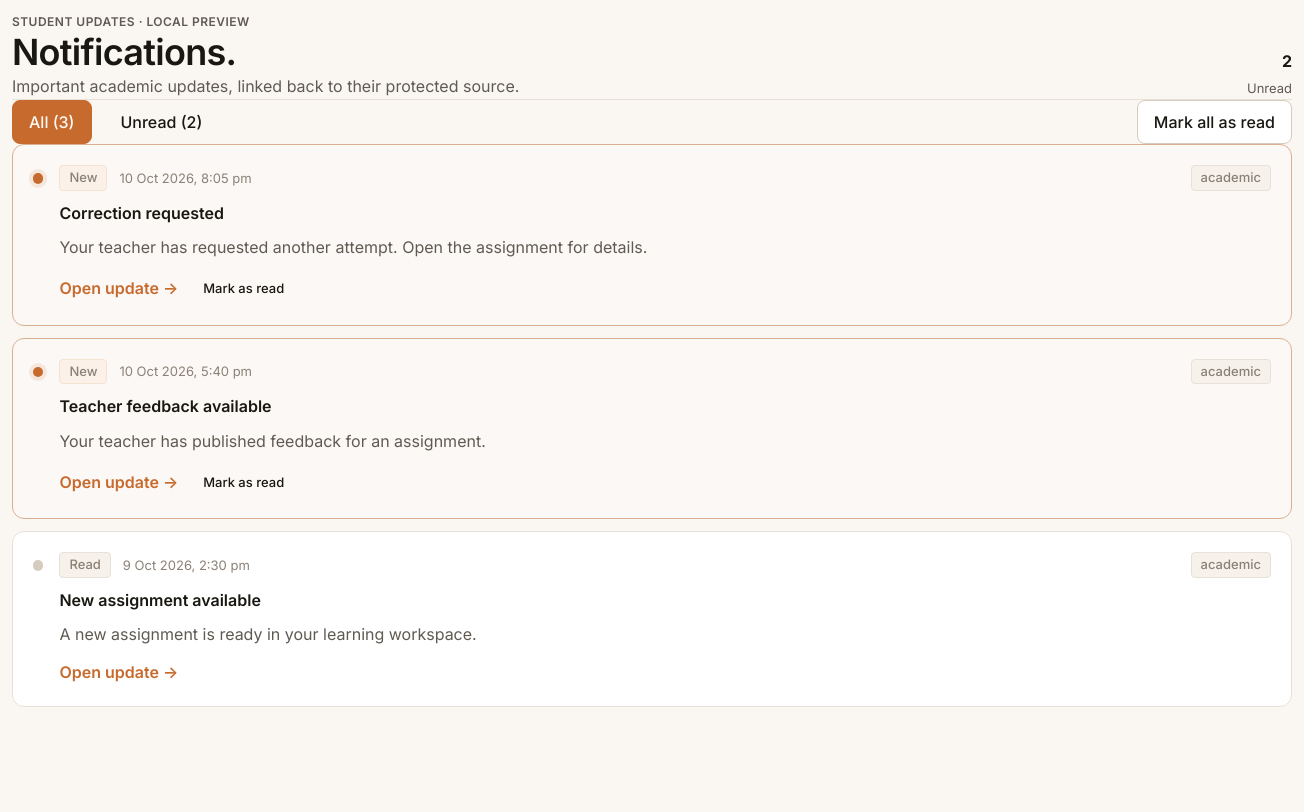
Test: NotificationCentrePage › shows, filters, and marks fictional student notifications read
Expected: the heading "Notifications." is shown, top-left (12, 30), bottom-right (236, 74)
Expected: the element named "2 unread notifications" is shown, top-left (1247, 51), bottom-right (1292, 96)
Step 1. Click the button "Mark as read" below "Correction requested" → (244,289), box top-left (190, 273), bottom-right (297, 305)
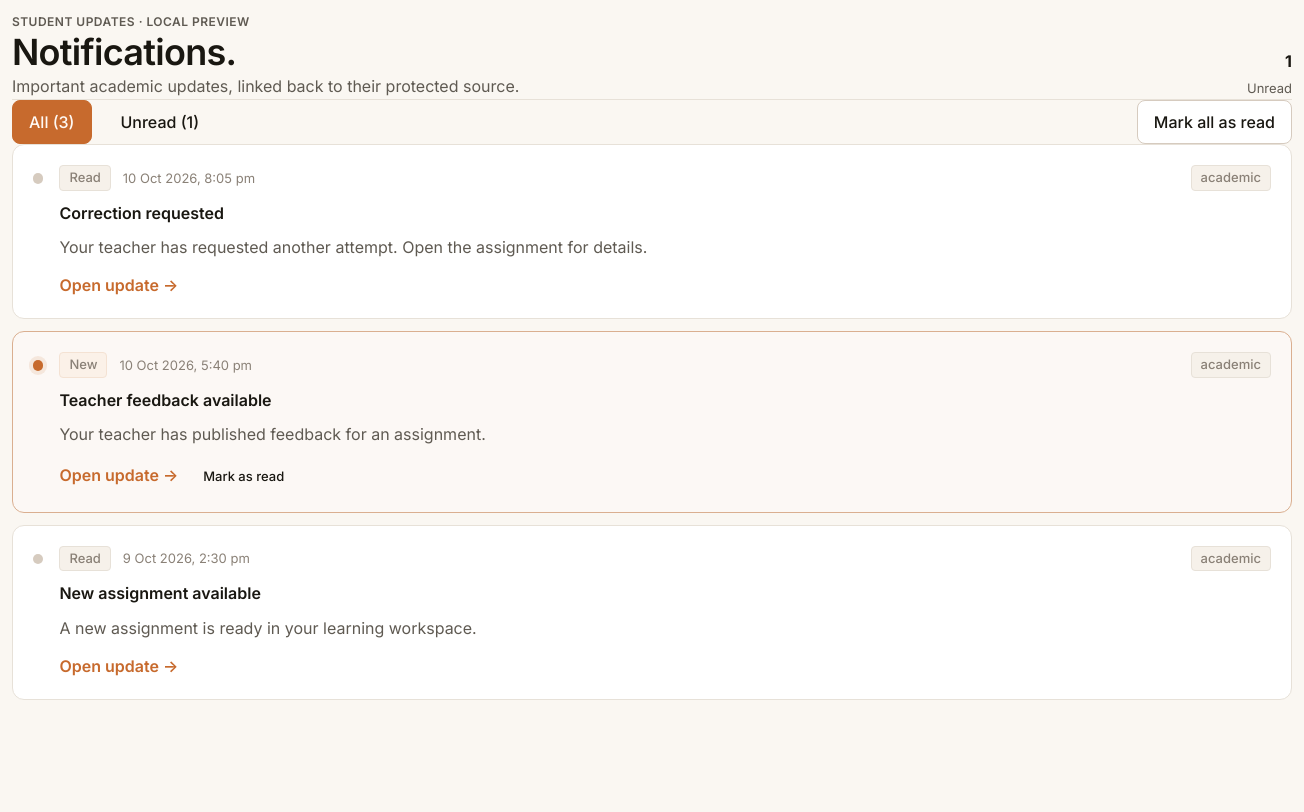
Now the element named "1 unread notifications" is shown, box top-left (1247, 51), bottom-right (1292, 96)
Step 2. Click the button "Unread (1)" → (160,122), box top-left (104, 100), bottom-right (216, 144)
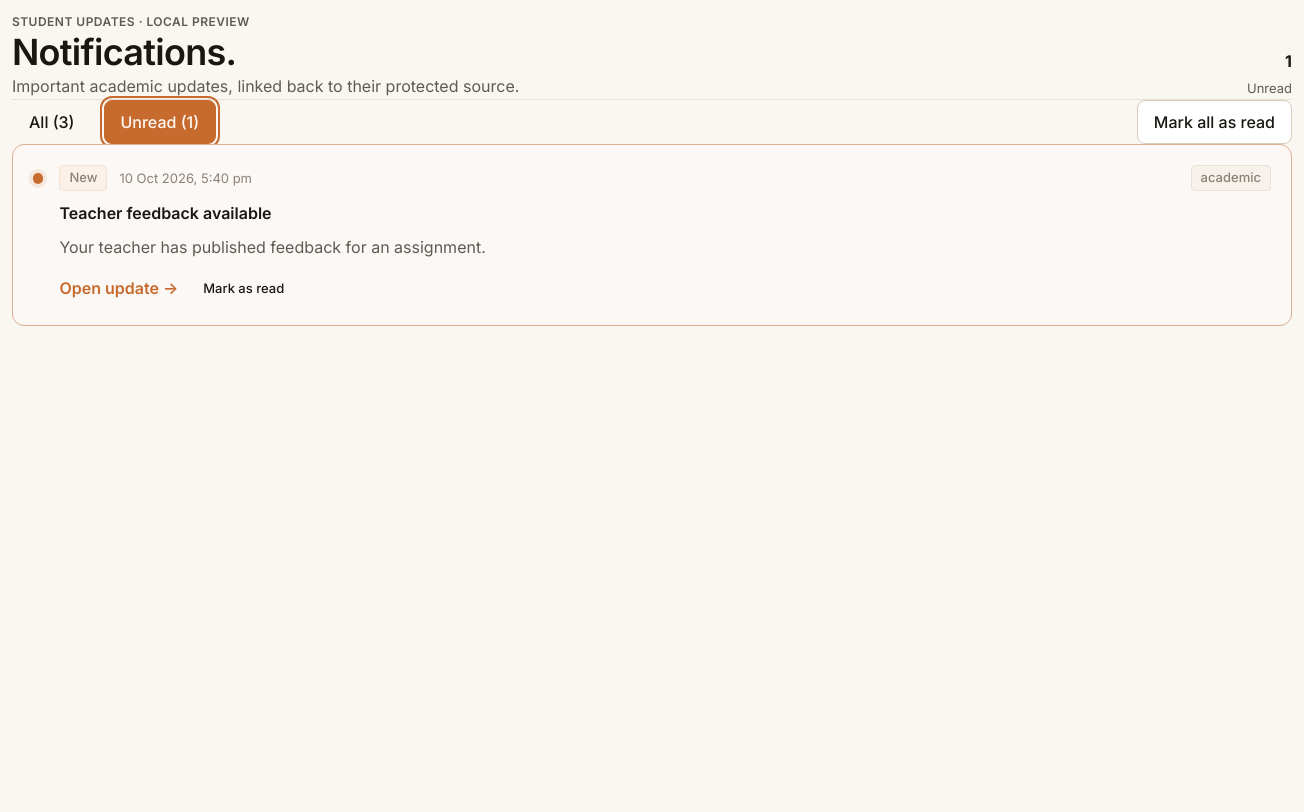
Now the heading "Correction requested" is gone
Step 3. Click the button "Mark all as read" → (1214,122), box top-left (1137, 100), bottom-right (1292, 144)
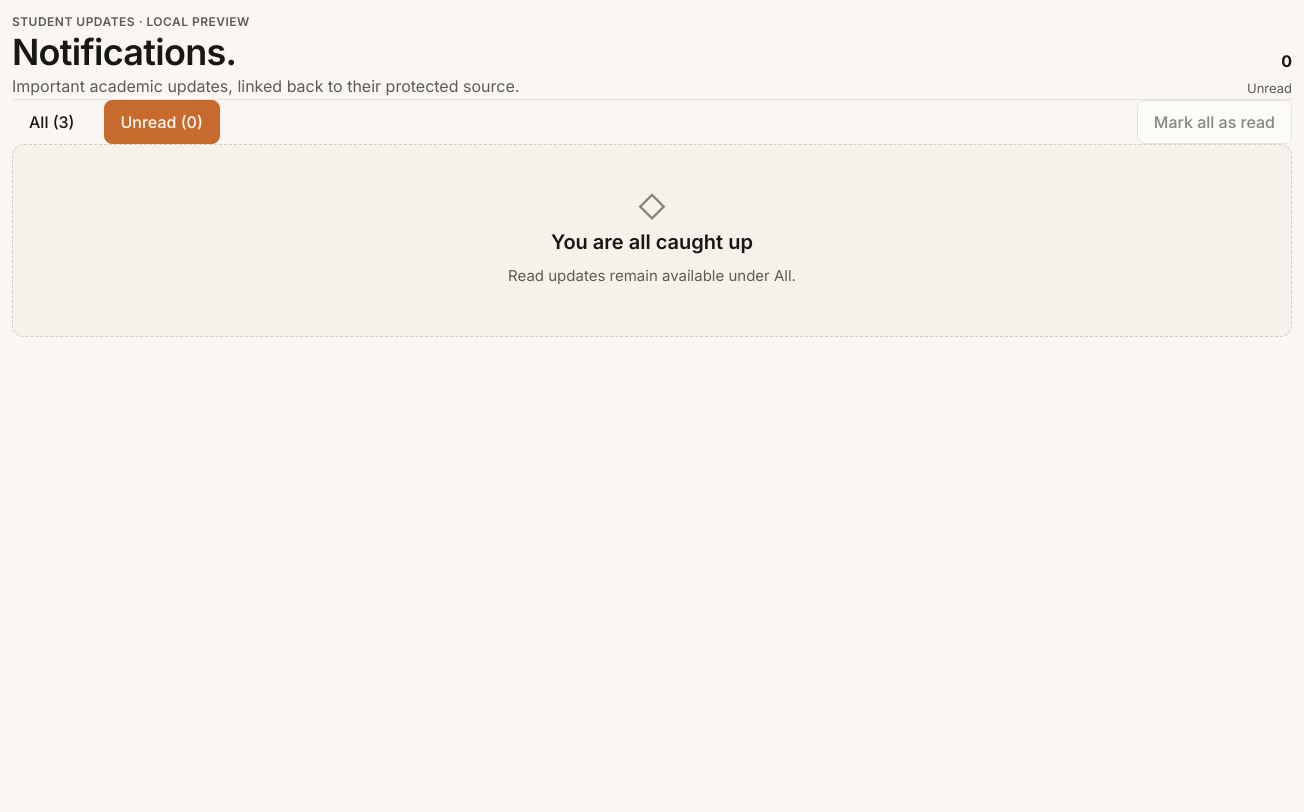
Now the text "You are all caught up" is shown, box top-left (551, 229), bottom-right (753, 256)
